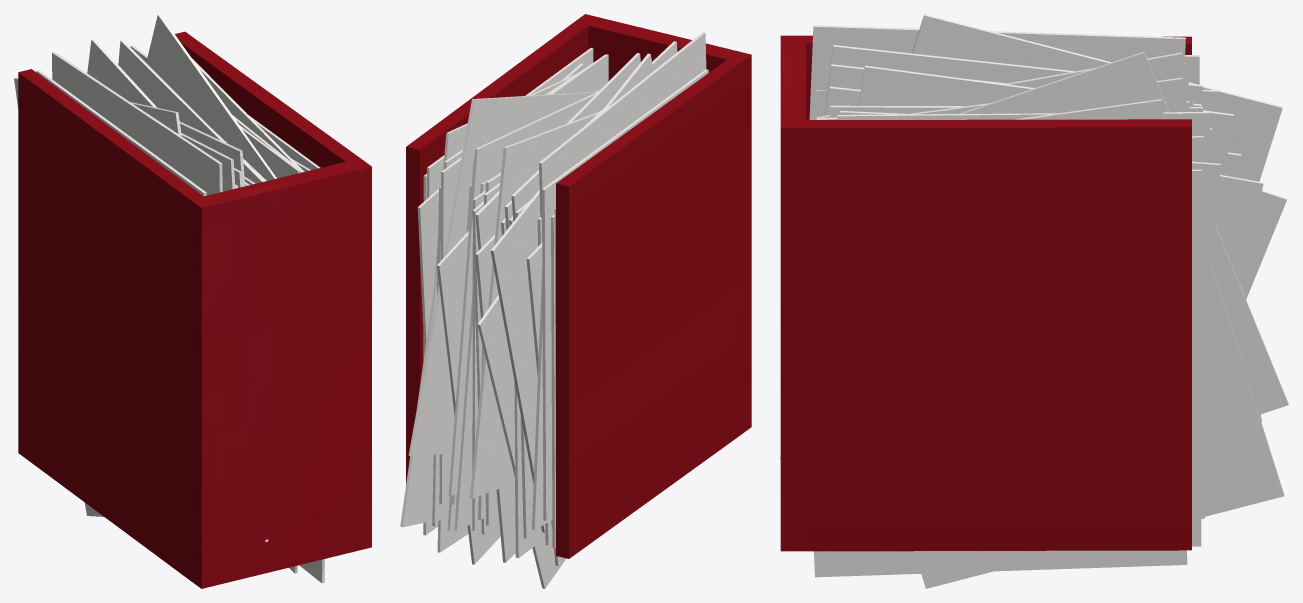
The model's file is RedFolderWithPapers.fbx.
3 renders of one model, left to right at view 1: azimuth 30°, elevation 25°; view 2: azimuth 150°, elevation 25°; view 3: azimuth 270°, elevation 25°, orthographic. The views are drawn at different scales.
Parts seen in each view (by area): view 1: Cube.006, Cube.011; view 2: Cube.006, Cube.011; view 3: Cube.006, Cube.011.
Part boxes in pixels (bbox=[...]): Cube.006: bbox=[18, 31, 371, 588]; Cube.011: bbox=[14, 14, 324, 583]; Cube.006: bbox=[406, 14, 751, 558]; Cube.011: bbox=[400, 32, 708, 588]; Cube.006: bbox=[780, 35, 1191, 551]; Cube.011: bbox=[780, 14, 1288, 588].
Bounding box in the file's own units: 69.14 × 187 × 161.
